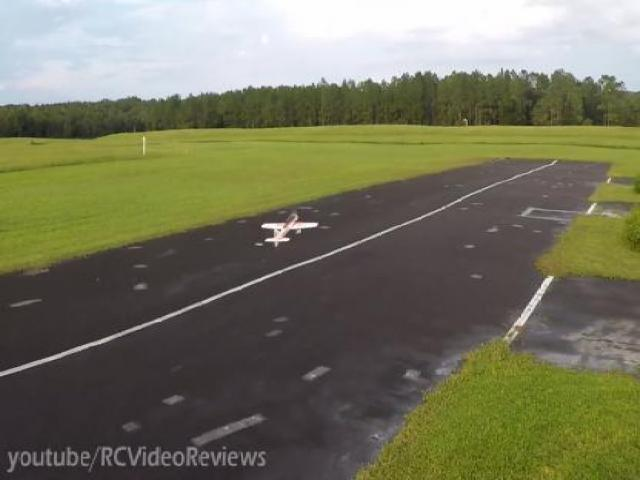uav: (258, 206, 320, 250)
